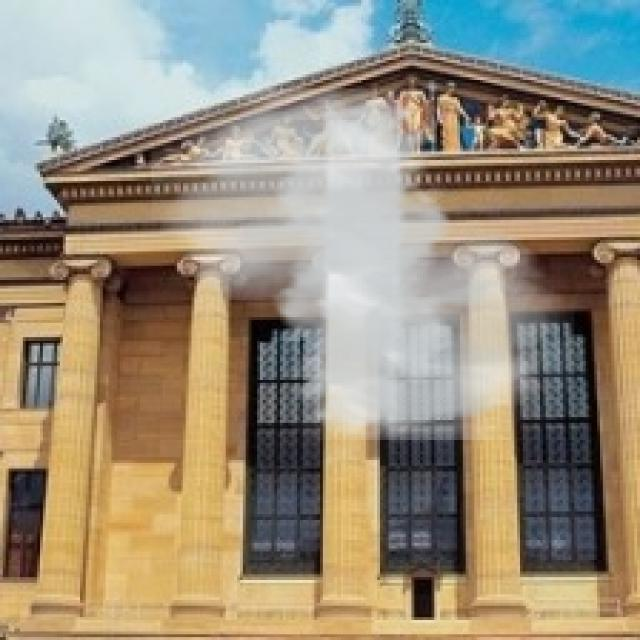Smoke: (152, 88, 574, 440)
